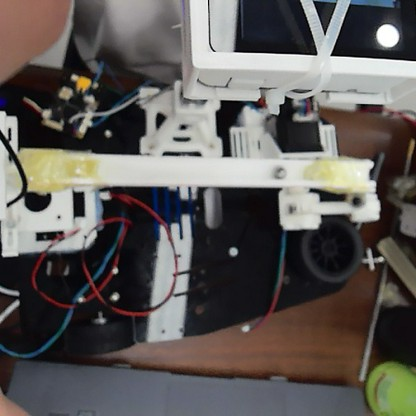ironball: (269, 163, 289, 180)
